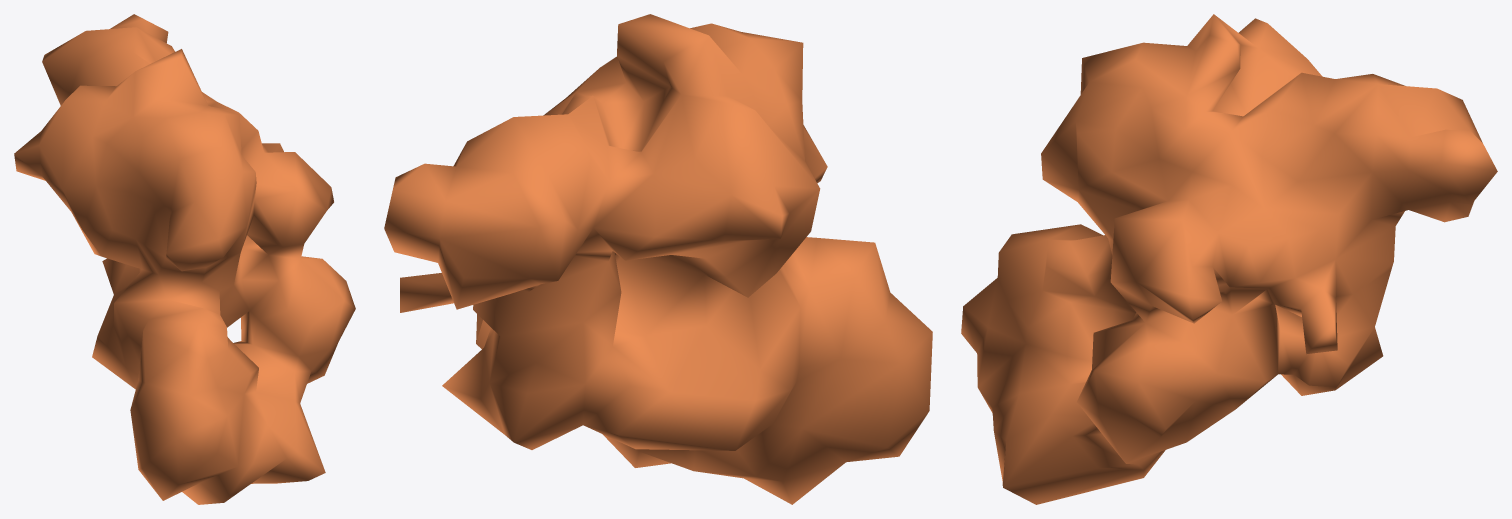
The model's file is MiinBloodPlasma_FactorC4A_4fxk_0_1_0.dae.
3 renders of one model, left to right at view 1: azimuth 30°, elevation 25°; view 2: azimuth 150°, elevation 25°; view 3: azimuth 270°, elevation 25°, orthographic. The views are drawn at different scales.
Visible parts, largest first — view 1: CoarseMS_4fxk; view 2: CoarseMS_4fxk; view 3: CoarseMS_4fxk.
Part boxes in pixels (x1,y1,x2,y2): CoarseMS_4fxk: (14, 14, 355, 504); CoarseMS_4fxk: (384, 14, 932, 504); CoarseMS_4fxk: (961, 14, 1497, 504).
Size of the model in its own units: 93.03 by 126 by 134.
